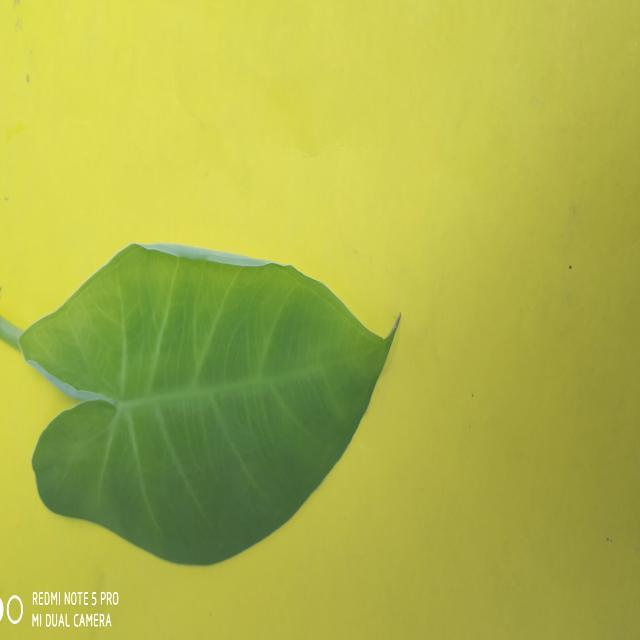leaf: (17, 240, 401, 566)
